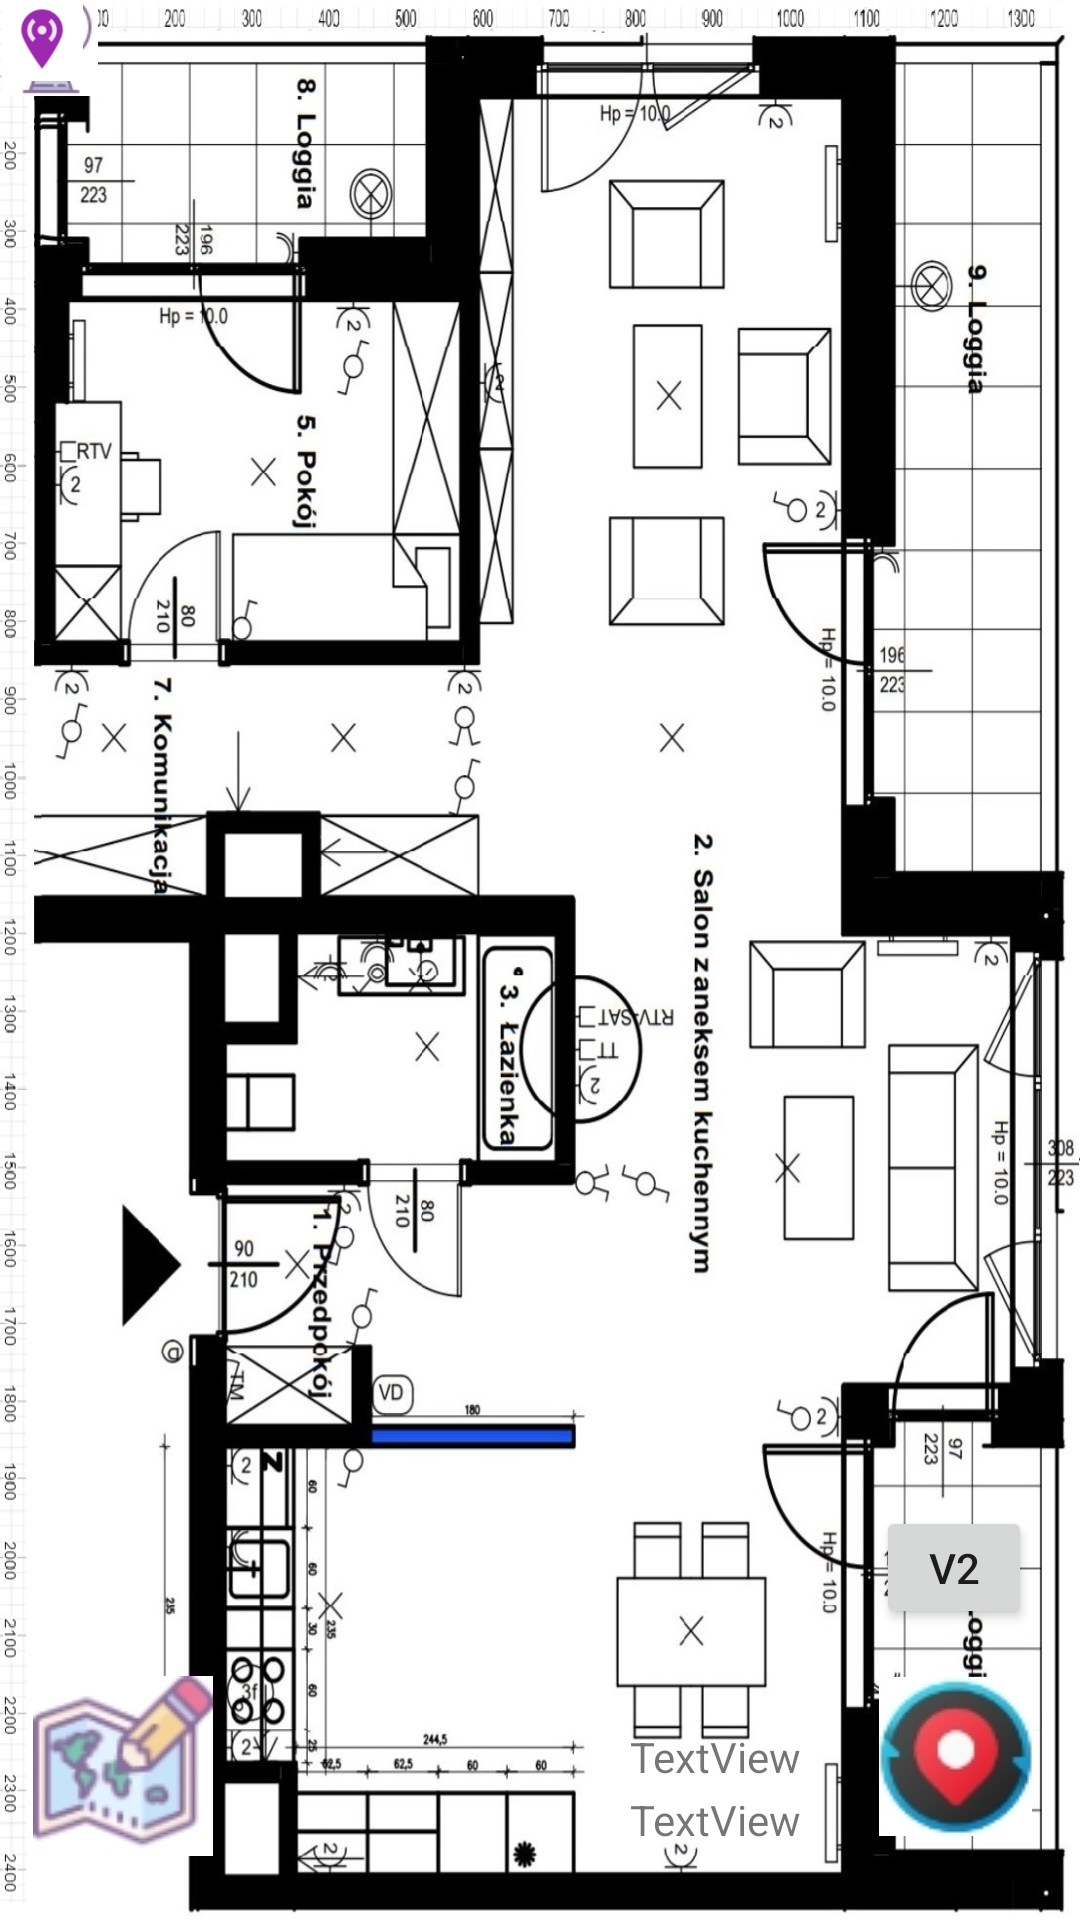

Icon click points for this 1080×1920 phone screenshot, format (x,y):
find location: (955,1757)
update map: (123,1765)
